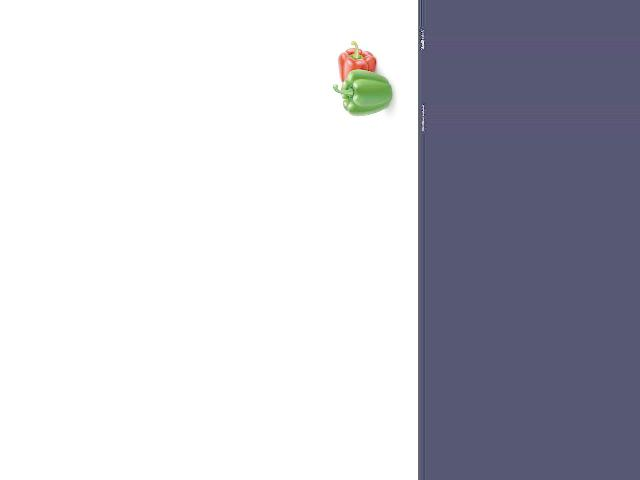bell_pepper: (333, 41, 375, 84)
